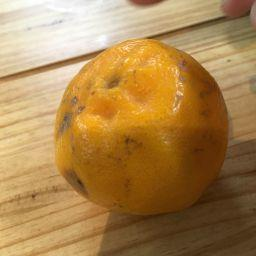Unripe: (55, 39, 229, 216)
